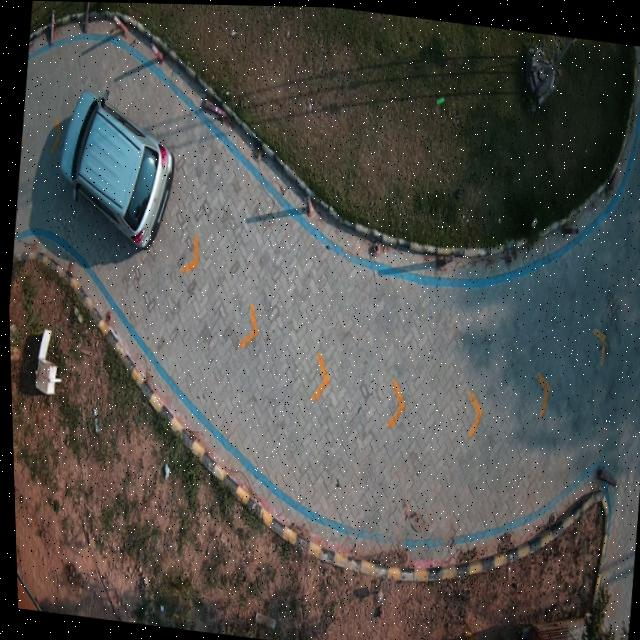car: (59, 91, 173, 247)
